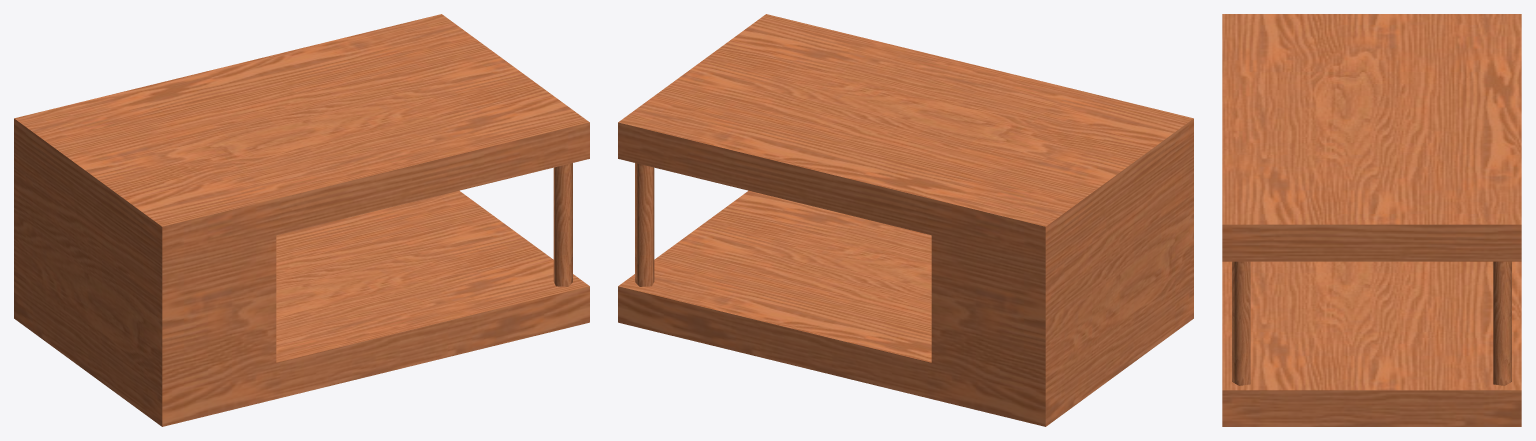
File: Table_20.glb
3 views of the same model, side by side, from view 1: azimuth 30°, elevation 25°; view 2: azimuth 150°, elevation 25°; view 3: azimuth 270°, elevation 25° (orthographic).
Parts seen in each view (by area): view 1: Table_20; view 2: Table_20; view 3: Table_20.
Part boxes in pixels (box(x1,y1,x2,y2)): Table_20: box(14, 14, 589, 426); Table_20: box(618, 14, 1193, 426); Table_20: box(1222, 14, 1521, 426).
Bounding box in the file's own units: 1.47 × 0.659 × 0.884.
Materials: 1 (1 with a texture image).
